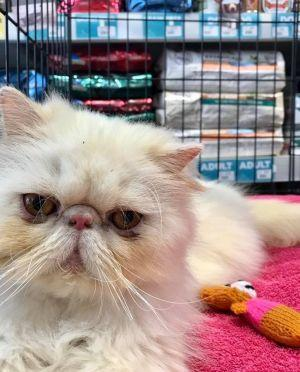persian: (1, 76, 210, 332)
